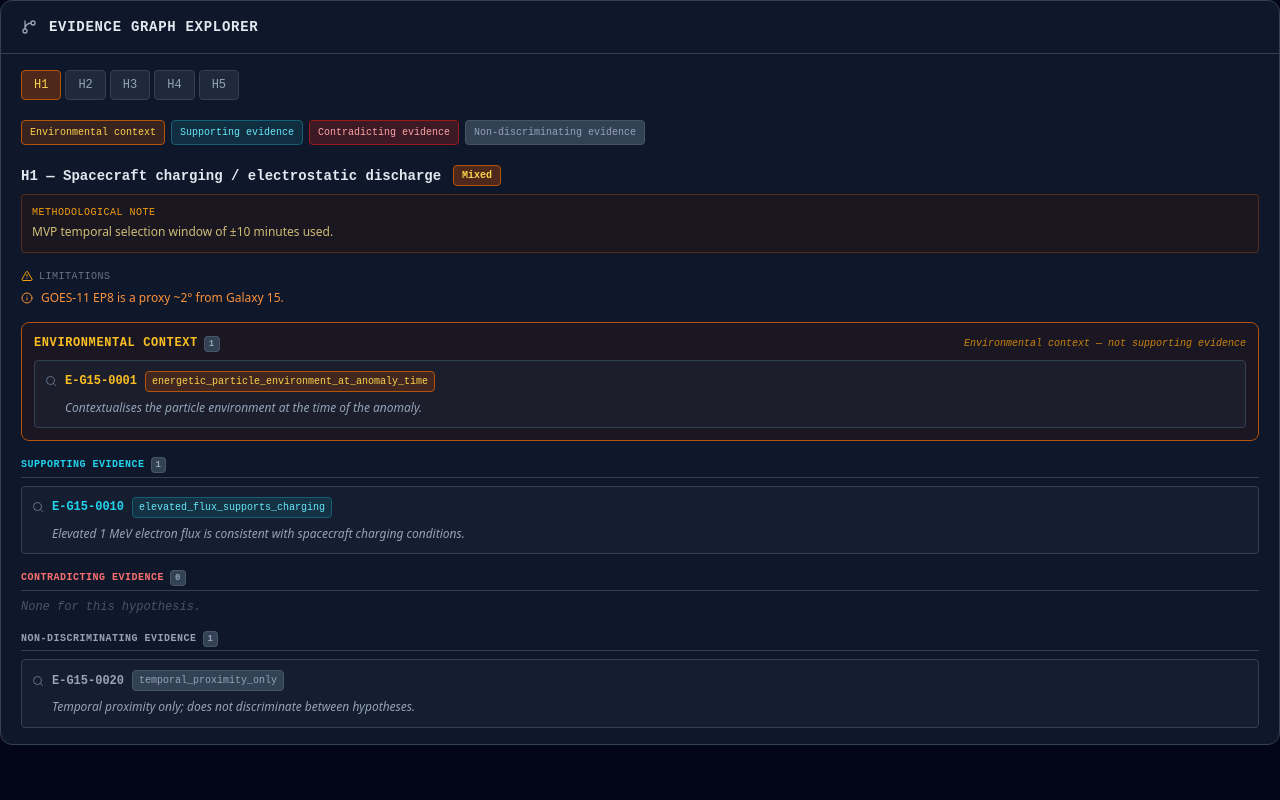
Test: EvidenceGraphExplorer › EG-3: switching to H4 shows the empty-state panel
The width and height of the screenshot is (1280, 800).
What coordinates should you click on to do the following:
click the tab with test id "explorer-tab-H4"
I would click on:
 (174, 85)
Its box is x1=154 y1=70 x2=195 y2=100.
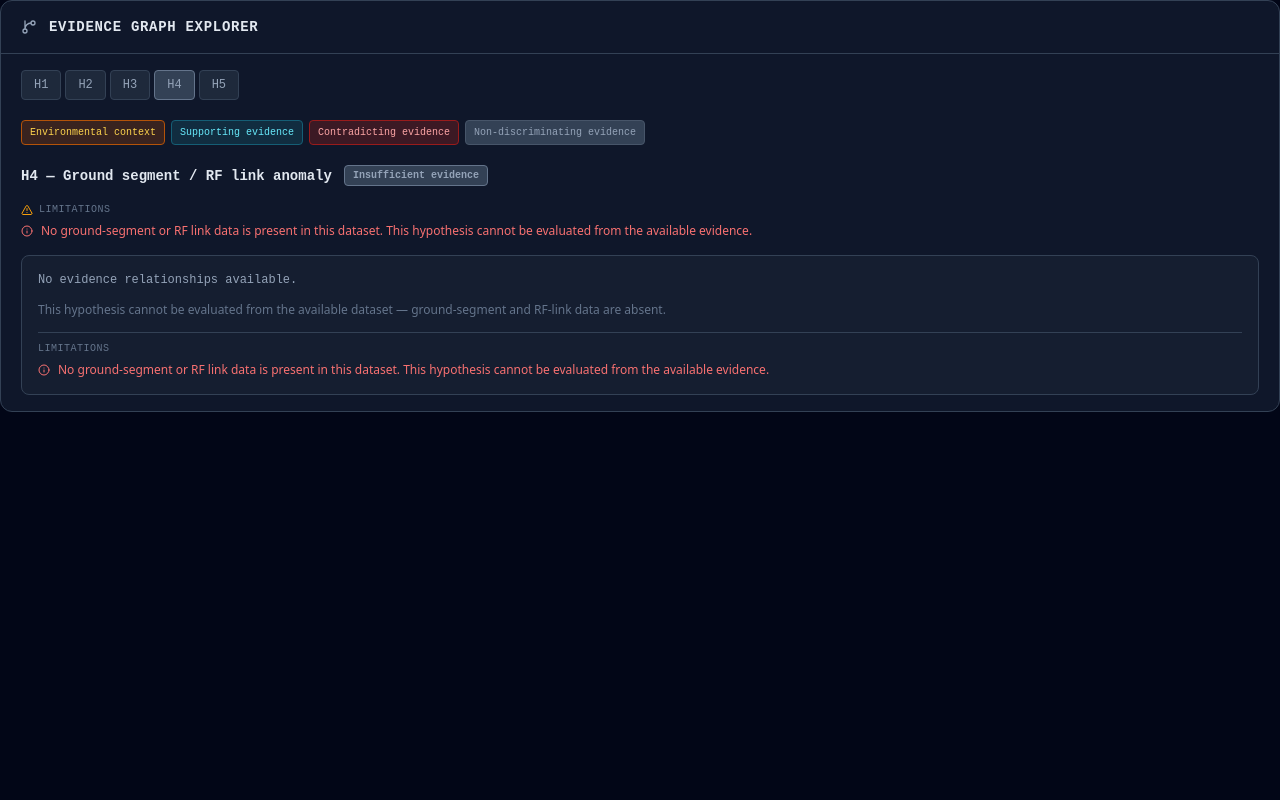
Expected: the element with test id "h4-empty-state" is shown, x1=21 y1=255 x2=1259 y2=394
